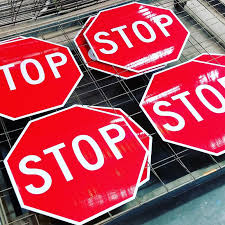SS: (81, 9, 191, 77)
